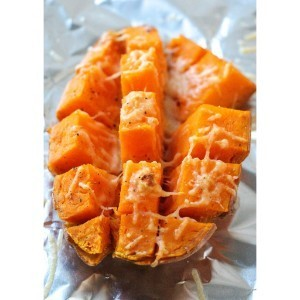sweet potato_brain food: (61, 89, 239, 233)
